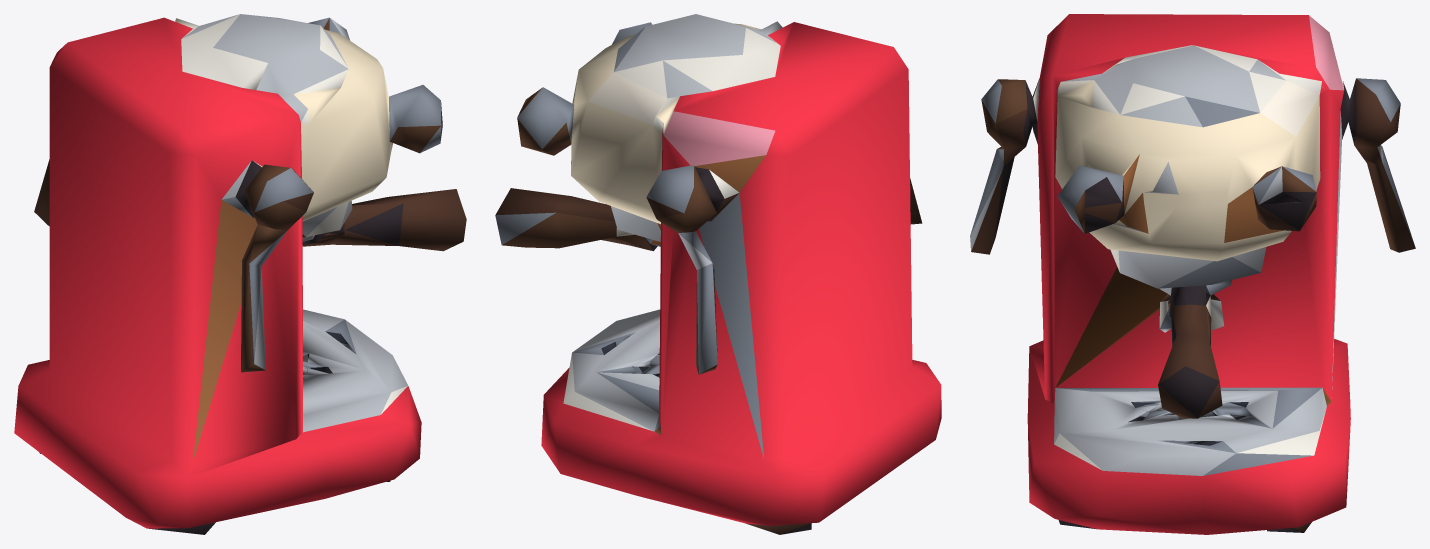
File: SM_espresso_machine.fbx
3 renders of one model, left to right at view 1: azimuth 30°, elevation 25°; view 2: azimuth 150°, elevation 25°; view 3: azimuth 270°, elevation 25°, orthographic. The views are drawn at different scales.
Visible parts, largest first — view 1: SM_espresso_machine; view 2: SM_espresso_machine; view 3: SM_espresso_machine.
Boxes of the visible parts, box(x1,y1,x2,y2) form: SM_espresso_machine: box(14, 14, 466, 534); SM_espresso_machine: box(495, 14, 941, 534); SM_espresso_machine: box(970, 14, 1415, 534).
Size of the model in its own units: 48.25 by 50 by 47.55.
1 material, 1 textured.
